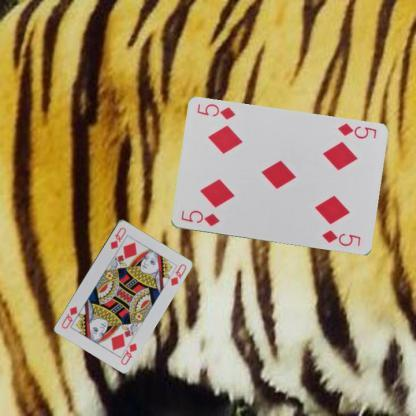5d: (334, 120, 378, 140), (178, 208, 221, 228)
Qd: (117, 336, 138, 366), (107, 224, 128, 250)
